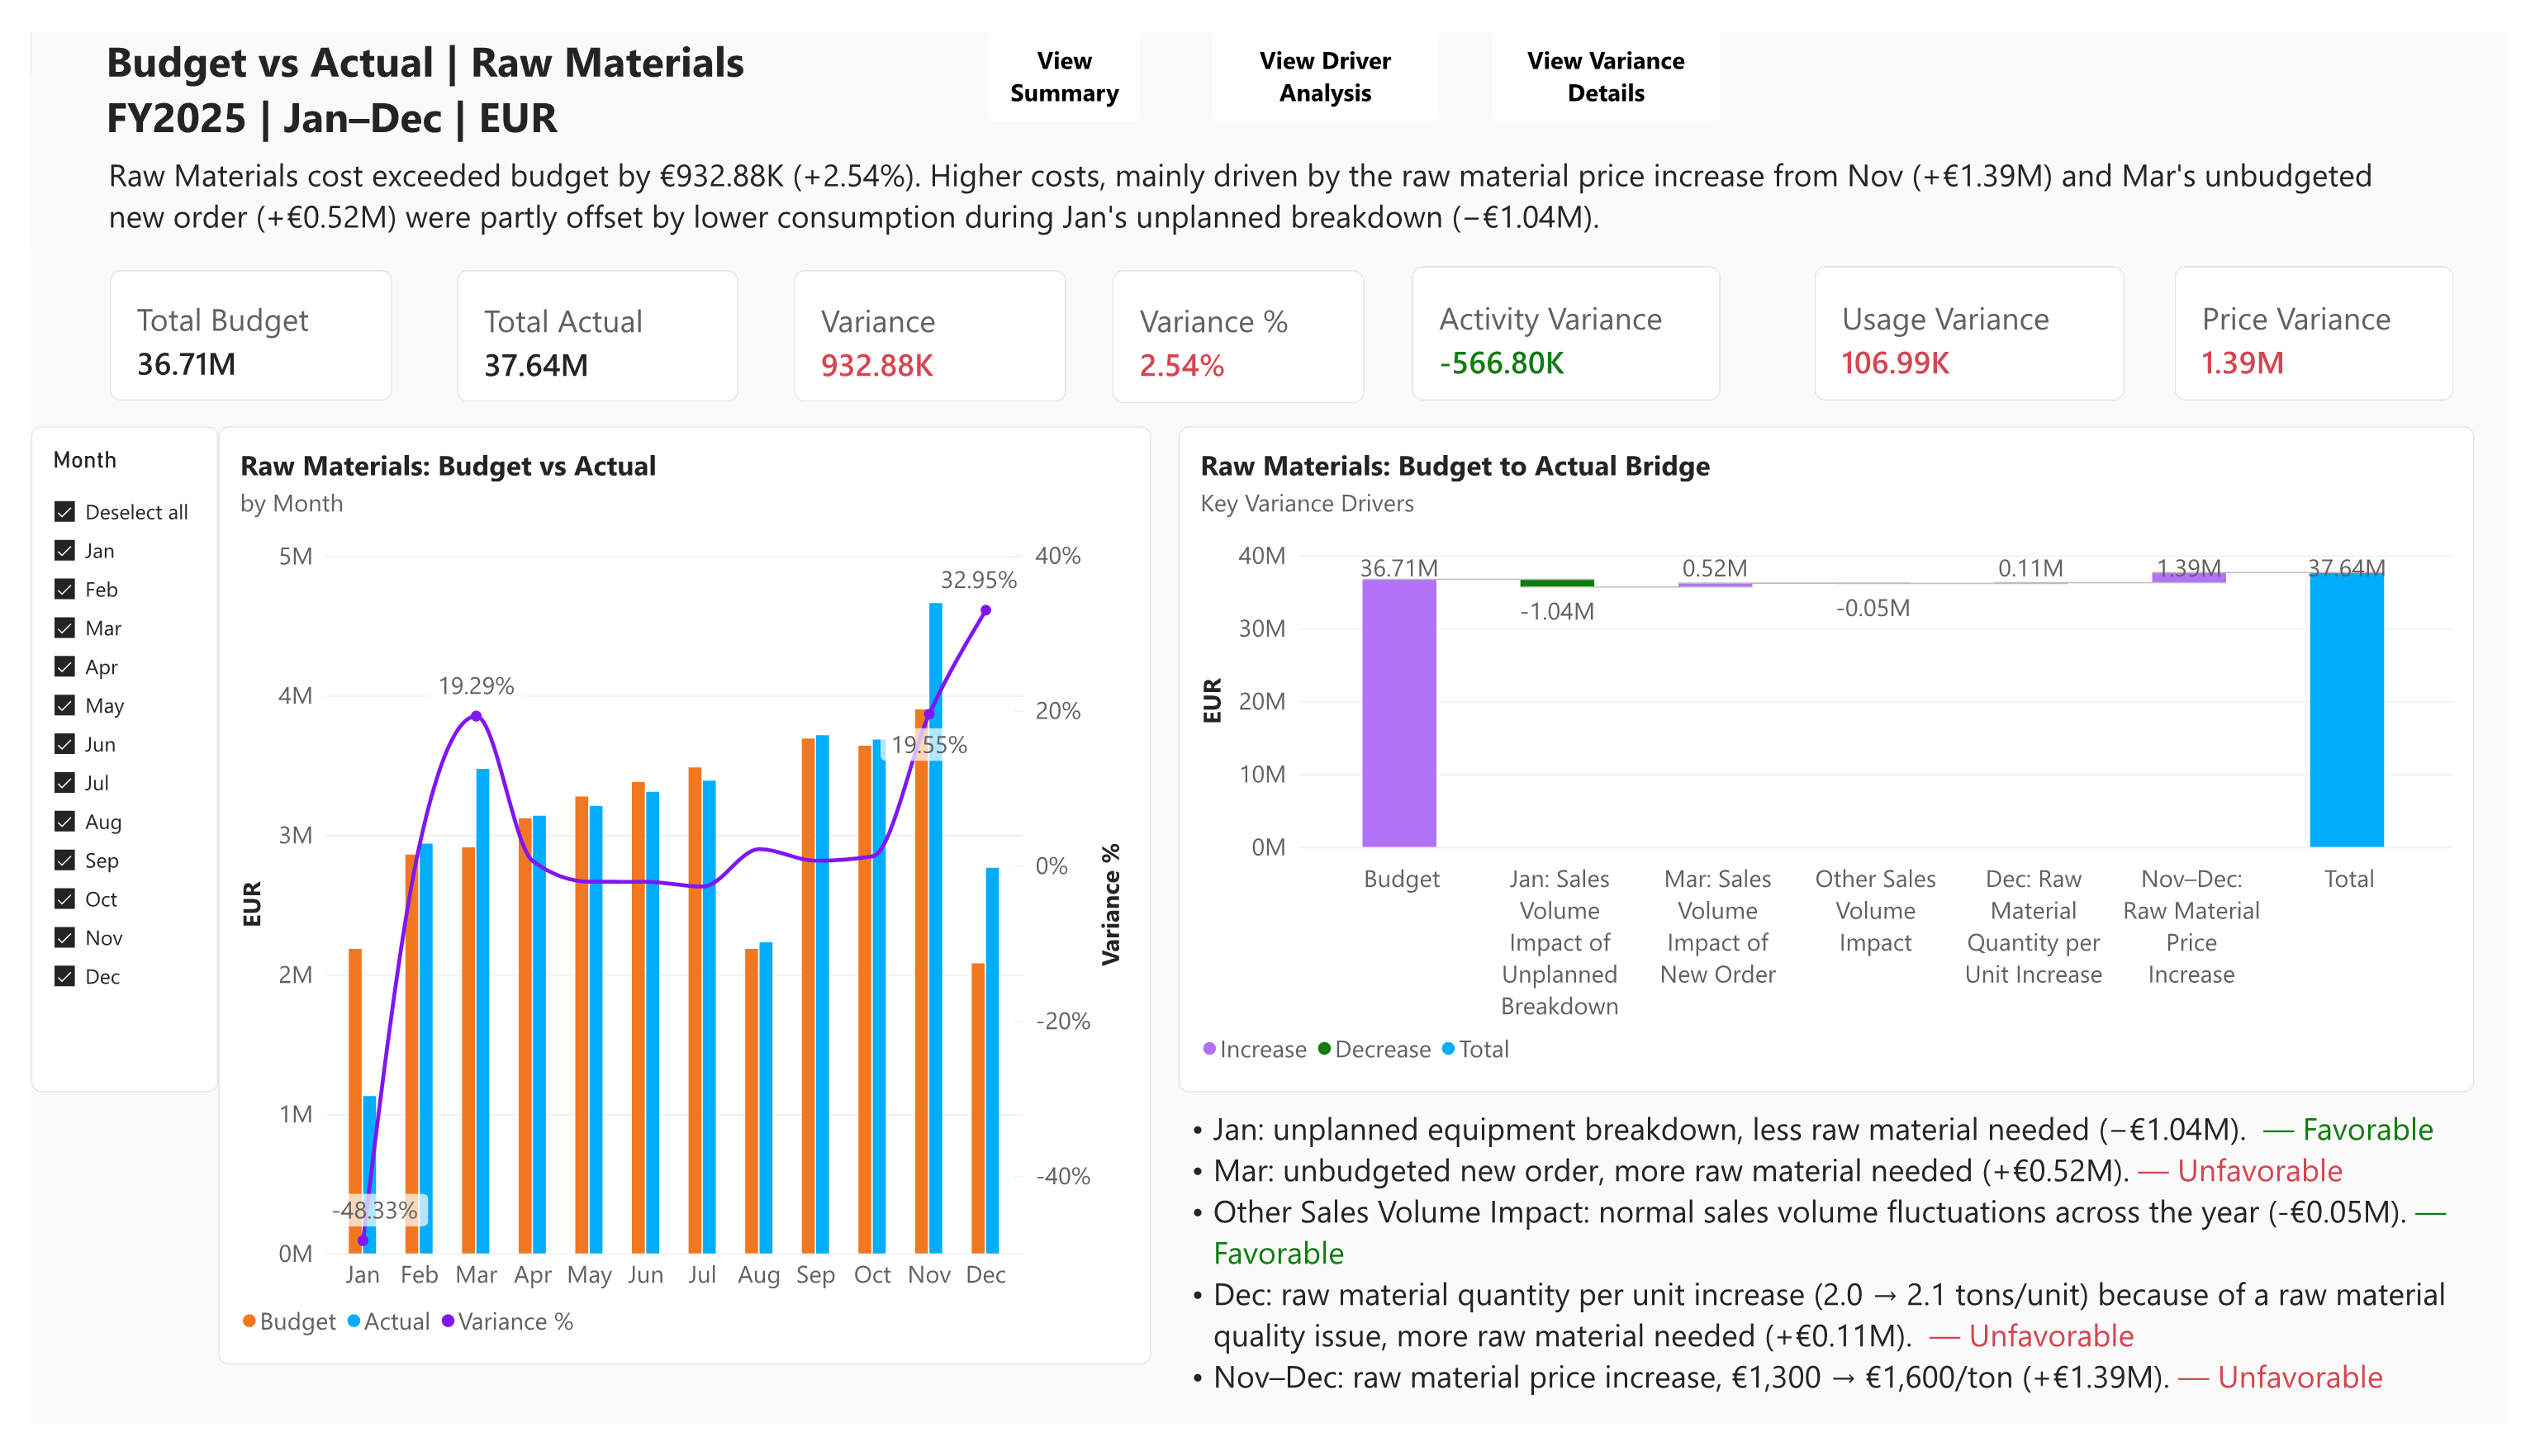

The page's visual inventory and layout, read from the dashboard file:
{"tool":"powerbi","page":{"name":"Raw Materials - Overview","canvas":[1920,1080],"ordinal":5},"visuals":[{"type":"listSlicer","fields":{"Values":["Dim_Date.Month"]},"box":[0,306.3,144.7,515.2],"z":0},{"type":"lineClusteredColumnComboChart","title":"Raw Materials: Budget vs Actual","fields":{"Category":["Dim_Date.Month"],"Y":["_Measures.Budget RM Amount","_Measures.Actual RM Amount"],"Y2":["_Measures.RM Variance %","_Measures.RM Variance % Label Threshold"]},"box":[145.3,306.3,722.3,726.6],"z":1000},{"type":"waterfallChart","title":"Raw Materials: Budget to Actual Bridge","fields":{"Category":["Raw Materials Bridge.Category"],"Y":["Raw Materials Bridge.RM Bridge Value"]},"box":[889,306.3,1004.4,515.7],"z":2000},{"type":"cardVisual","fields":{"Data":["_Measures.Budget RM Amount"]},"box":[60.9,165,219.1,140.6],"z":3000},{"type":"cardVisual","fields":{"Data":["_Measures.Actual RM Amount"]},"box":[330,165,217.7,142],"z":4000},{"type":"cardVisual","fields":{"Data":["_Measures.RM Variance %"]},"box":[838.4,165,194.7,143.3],"z":5000},{"type":"cardVisual","fields":{"Data":["_Measures.RM Volume Variance"]},"box":[1069.6,162.3,239.2,144.2],"z":6000},{"type":"cardVisual","fields":{"Data":["_Measures.RM Price Variance"]},"box":[1660.6,162.3,216.4,143.3],"z":7000},{"type":"cardVisual","fields":{"Data":["_Measures.RM Variance"]},"box":[590.9,165,211,142],"z":8000},{"type":"cardVisual","fields":{"Data":["_Measures.RM Usage Variance"]},"box":[1382,162.3,239.6,143.5],"z":9000},{"type":"textbox","box":[60.3,93.5,1798.5,87.9],"z":10000},{"type":"textbox","box":[880.5,833.4,997.3,236.5],"z":11000},{"type":"actionButton","box":[914.6,0,176.5,69.4],"z":12000},{"type":"actionButton","box":[1132.4,0,176.5,69.4],"z":13000},{"type":"actionButton","box":[743.3,0,115.7,70],"z":14000},{"type":"textbox","box":[58.2,0,540.4,104.8],"z":15000}]}

Visuals, with their boxes on the page's 1920x1080 design canvas (x1, y1, x2, y2). These are canvas units, not pixel positions in the 2540x1456 screenshot, which may show the page scaled, cropped or inside an application window:
listSlicer - Dim_Date.Month: 0,306,145,822
"Raw Materials: Budget vs Actual" lineClusteredColumnComboChart: 145,306,868,1033
"Raw Materials: Budget to Actual Bridge" waterfallChart: 889,306,1893,822
cardVisual - _Measures.Budget RM Amount: 61,165,280,306
cardVisual - _Measures.Actual RM Amount: 330,165,548,307
cardVisual - _Measures.RM Variance %: 838,165,1033,308
cardVisual - _Measures.RM Volume Variance: 1070,162,1309,306
cardVisual - _Measures.RM Price Variance: 1661,162,1877,306
cardVisual - _Measures.RM Variance: 591,165,802,307
cardVisual - _Measures.RM Usage Variance: 1382,162,1622,306
textbox: 60,94,1859,181
textbox: 880,833,1878,1070
actionButton: 915,0,1091,69
actionButton: 1132,0,1309,69
actionButton: 743,0,859,70
textbox: 58,0,599,105
